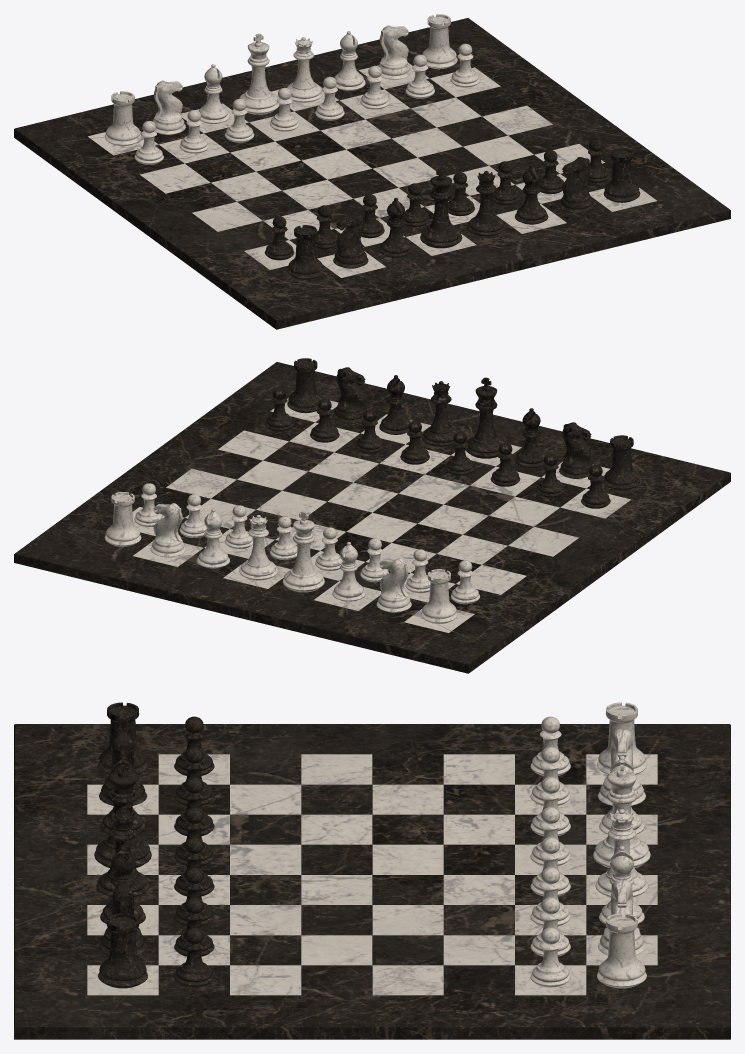
The picture shows the model from 3 angles, top to bottom: view 1: azimuth 30°, elevation 25°; view 2: azimuth 150°, elevation 25°; view 3: azimuth 270°, elevation 25°; orthographic projection. The views are drawn at different scales.
Visible parts, largest first — view 1: SM_Board, SM_King1, SM_King, SM_Knight3, SM_Knight1, SM_Knight, SM_Knight2, SM_Rook, SM_Rook2, SM_Rook1, SM_Queen1, SM_Rook3 (+21 smaller); view 2: SM_Board, SM_King, SM_King1, SM_Knight, SM_Knight2, SM_Knight1, SM_Knight3, SM_Rook2, SM_Rook, SM_Rook3, SM_Queen, SM_Rook1 (+21 smaller); view 3: SM_Board, SM_Rook3, SM_Rook1, SM_King, SM_King1, SM_Rook2, SM_Queen1, SM_Queen, SM_Rook, SM_Pawn, SM_Pawn1, SM_Knight2 (+21 smaller).
Boxes of the visible parts, x1=… form: SM_Board: x1=14, y1=18, x2=730, y2=329; SM_King1: x1=420, y1=167, x2=462, y2=248; SM_King: x1=239, y1=33, x2=279, y2=114; SM_Knight3: x1=333, y1=212, x2=368, y2=268; SM_Knight1: x1=559, y1=157, x2=594, y2=213; SM_Knight: x1=152, y1=80, x2=185, y2=134; SM_Knight2: x1=378, y1=25, x2=411, y2=79; SM_Rook: x1=104, y1=91, x2=141, y2=146; SM_Rook2: x1=287, y1=225, x2=323, y2=279; SM_Rook1: x1=603, y1=148, x2=640, y2=202; SM_Queen1: x1=467, y1=170, x2=505, y2=236; SM_Rook3: x1=422, y1=14, x2=457, y2=69; SM_Board: x1=14, y1=362, x2=730, y2=673; SM_King: x1=282, y1=511, x2=324, y2=592; SM_King1: x1=465, y1=377, x2=505, y2=458; SM_Knight: x1=376, y1=558, x2=411, y2=612; SM_Knight2: x1=150, y1=503, x2=185, y2=557; SM_Knight1: x1=333, y1=367, x2=366, y2=423; SM_Knight3: x1=559, y1=422, x2=592, y2=478; SM_Rook2: x1=603, y1=435, x2=640, y2=490; SM_Rook: x1=421, y1=569, x2=457, y2=623; SM_Rook3: x1=104, y1=492, x2=141, y2=546; SM_Queen: x1=239, y1=514, x2=277, y2=580; SM_Rook1: x1=287, y1=358, x2=322, y2=413; SM_Board: x1=14, y1=724, x2=730, y2=1039; SM_Rook3: x1=597, y1=913, x2=646, y2=988; SM_Rook1: x1=98, y1=913, x2=147, y2=988; SM_King: x1=593, y1=759, x2=650, y2=867; SM_King1: x1=94, y1=759, x2=151, y2=867; SM_Rook2: x1=98, y1=702, x2=147, y2=774; SM_Queen1: x1=96, y1=809, x2=149, y2=897; SM_Queen: x1=595, y1=809, x2=648, y2=897; SM_Rook: x1=597, y1=702, x2=646, y2=774; SM_Pawn: x1=530, y1=927, x2=570, y2=987; SM_Pawn1: x1=174, y1=927, x2=214, y2=987; SM_Knight2: x1=597, y1=879, x2=645, y2=955.
Bounding box in the file's own units: 57.78 × 10.05 × 57.78.
Materials: 2 (2 with a texture image).
